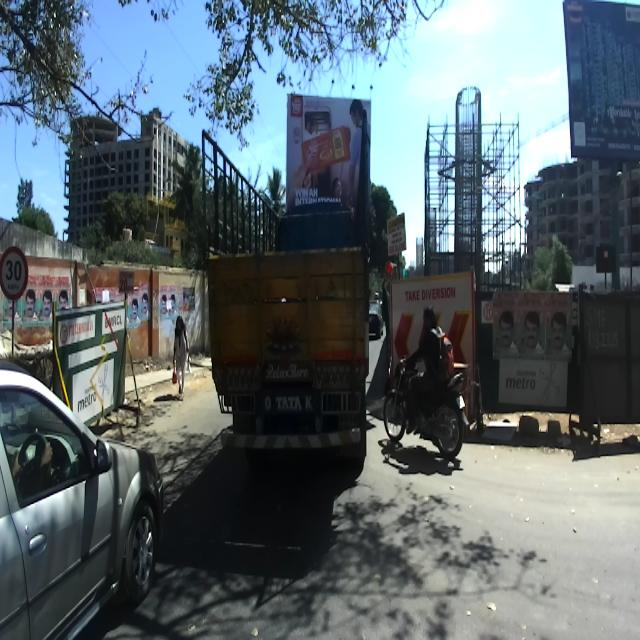motorcycle ahead at: (382, 356, 471, 463)
truck ahead at: (190, 116, 376, 476)
